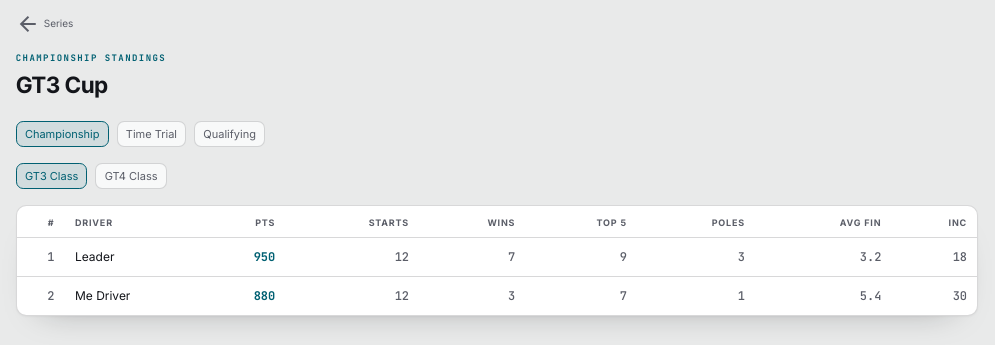
StandingsPage › switches to the Time Trial tab and renders TT rating (with — for missing)
Expected: the text "Leader" is shown, left=75, top=249, right=114, bottom=264
Click the button "Time Trial" at coordinates (151, 134), box left=117, top=121, right=186, bottom=147
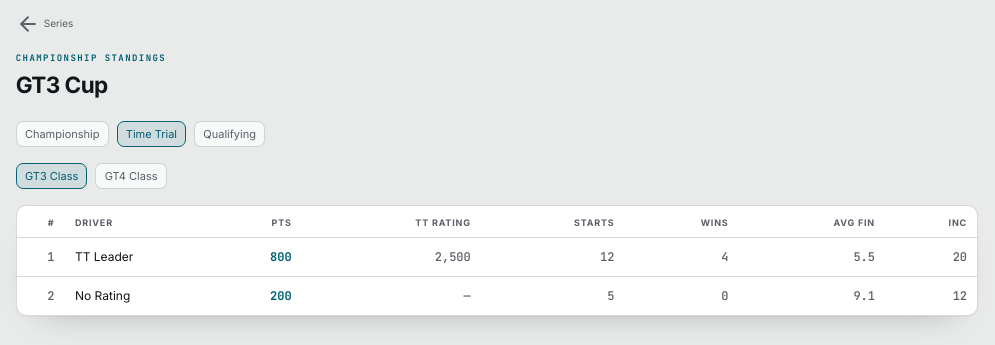
Expected: the text "TT Leader" is shown, left=75, top=249, right=133, bottom=264
Expected: the text "2,500" is shown, left=302, top=238, right=481, bottom=277
Expected: the text "No Rating" is shown, left=75, top=288, right=130, bottom=303
